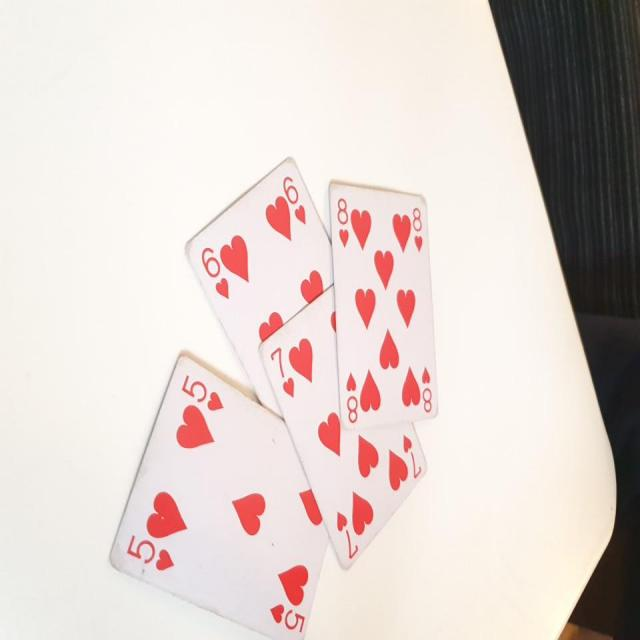5 Hearts: (100, 341, 325, 640)
6 Hearts: (176, 154, 345, 421)
7 Hearts: (256, 282, 431, 573)
8 Hearts: (327, 172, 441, 436)
